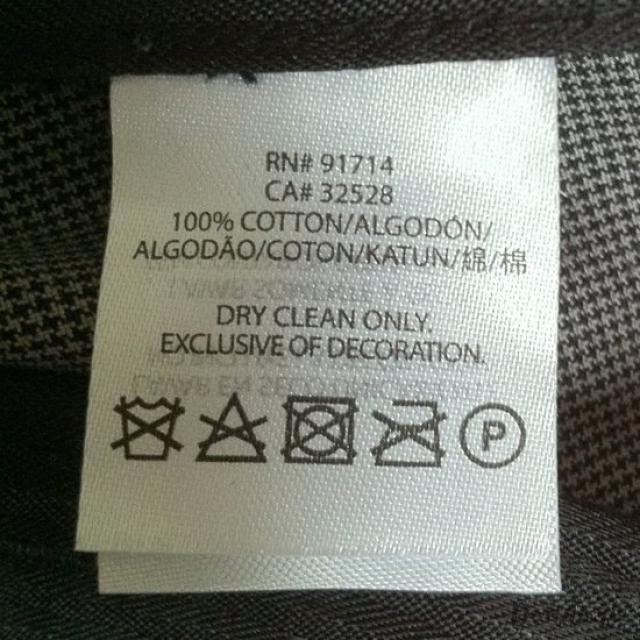DN_bleach: (196, 391, 267, 469)
DN_iron: (373, 394, 448, 475)
DN_tumble_dry: (279, 387, 359, 466)
DN_wash: (109, 389, 187, 467)
dry_clean_any_solvent_except_trichloroethylene: (459, 398, 529, 471)
